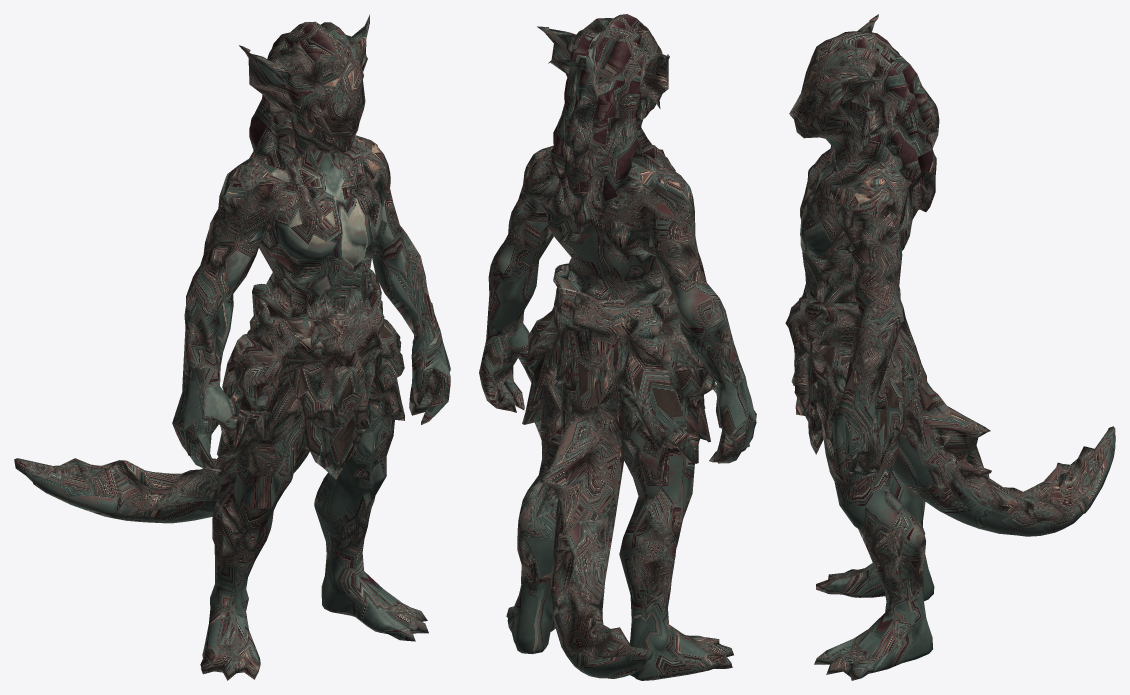
The model's file is scalekin_raider_huntress.glb.
The picture shows the model from 3 angles, left to right: view 1: azimuth 30°, elevation 25°; view 2: azimuth 150°, elevation 25°; view 3: azimuth 270°, elevation 25°; orthographic projection. The views are drawn at different scales.
Parts seen in each view (by area): view 1: Mesh_0; view 2: Mesh_0; view 3: Mesh_0.
Boxes of the visible parts, x1,y1,x2,y2 form: Mesh_0: (14,14,450,680); Mesh_0: (479,14,756,680); Mesh_0: (785,14,1115,680).
Size of the model in its own units: 0.9601 by 1.9 by 0.9515.
Materials: 1 (1 with a texture image).
